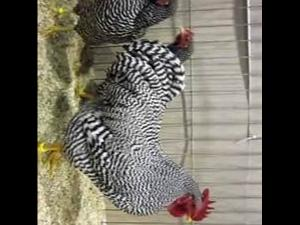hen: (39, 26, 218, 222), (41, 0, 180, 74)
